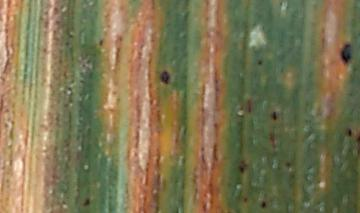tarspot: (335, 42, 356, 67), (158, 70, 172, 86), (236, 160, 249, 174), (270, 108, 280, 121), (346, 126, 355, 140), (81, 197, 92, 208), (355, 134, 360, 155), (283, 160, 293, 170), (255, 59, 266, 68), (96, 39, 107, 47), (260, 200, 268, 209), (242, 197, 249, 205)
